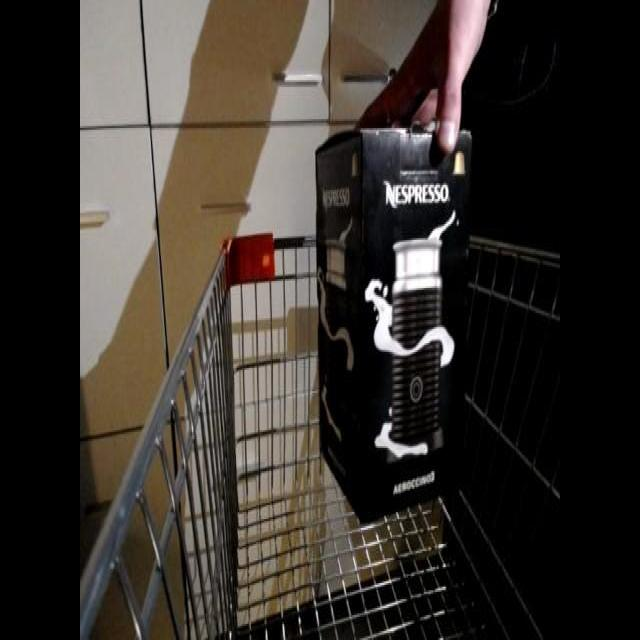Nespresso: (311, 98, 489, 532)
